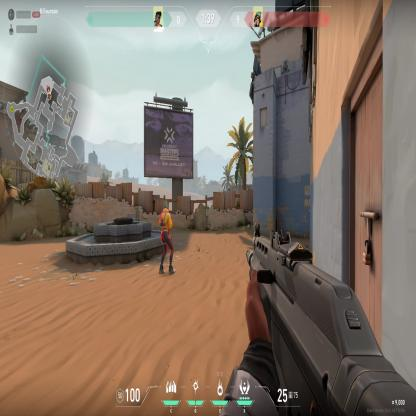enemy: (157, 198, 178, 278)
